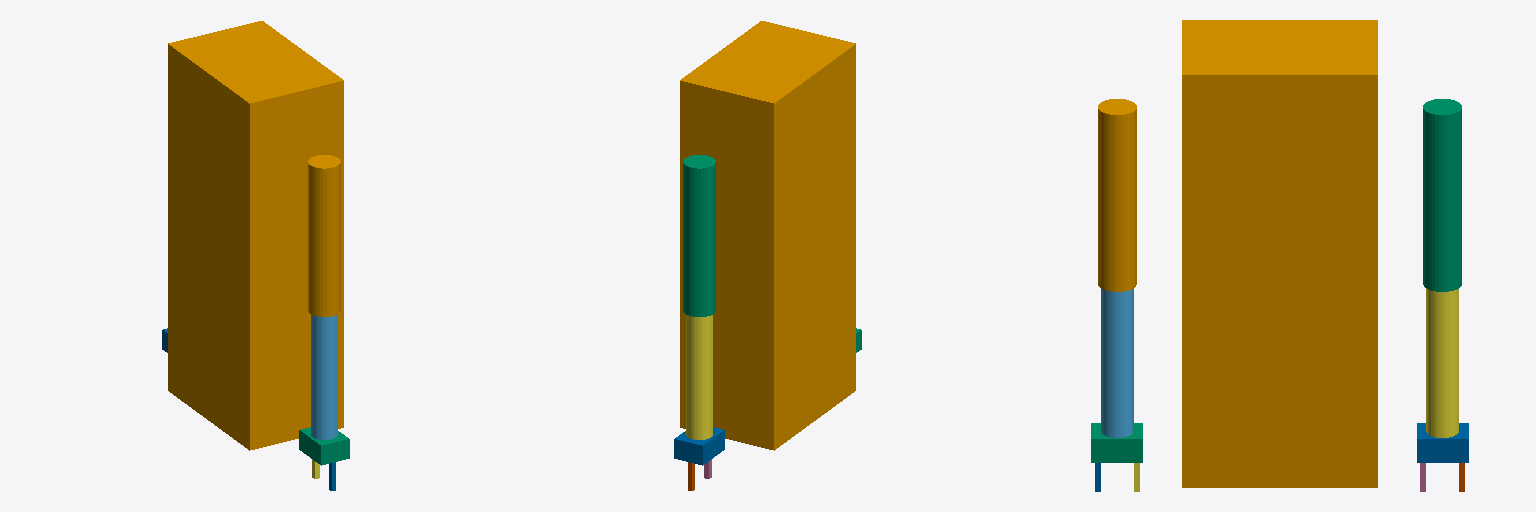
URDF robot description (dual_arm_test):
<?xml version="1.0"?>
<!-- A primitive-only dual-arm body used by the botrail tests and examples:
     a fixed torso carrying two 3-DOF arms, each ending in a 1-DOF finger
     (its twin follows as a mimic). No mesh assets, so it works straight
     from a checkout. Arms mount at the shoulders (y = +/-0.20, z = 0.60)
     and hang down at zero, elbows folding forward (+x). -->
<robot name="dual_arm_test">

  <link name="body">
    <visual>
      <origin xyz="0 0 0.35"/>
      <geometry><box size="0.20 0.30 0.70"/></geometry>
    </visual>
    <collision>
      <origin xyz="0 0 0.35"/>
      <geometry><box size="0.20 0.30 0.70"/></geometry>
    </collision>
  </link>

  <!-- ===================================================== left arm === -->
  <joint name="left_mount" type="fixed">
    <parent link="body"/>
    <child link="left_base"/>
    <origin xyz="0 0.20 0.60"/>
  </joint>
  <link name="left_base"/>

  <joint name="left_shoulder" type="revolute">
    <parent link="left_base"/>
    <child link="left_upper"/>
    <origin xyz="0 0.05 0"/>
    <axis xyz="0 1 0"/>
    <limit lower="-3.0" upper="3.0" effort="20" velocity="2.0"/>
  </joint>
  <link name="left_upper">
    <visual>
      <origin xyz="0 0 -0.15"/>
      <geometry><cylinder radius="0.03" length="0.30"/></geometry>
    </visual>
    <collision>
      <origin xyz="0 0 -0.15"/>
      <geometry><cylinder radius="0.03" length="0.30"/></geometry>
    </collision>
  </link>

  <joint name="left_elbow" type="revolute">
    <parent link="left_upper"/>
    <child link="left_fore"/>
    <origin xyz="0 0 -0.30"/>
    <axis xyz="0 1 0"/>
    <limit lower="-2.5" upper="2.5" effort="20" velocity="2.0"/>
  </joint>
  <link name="left_fore">
    <visual>
      <origin xyz="0 0 -0.125"/>
      <geometry><cylinder radius="0.025" length="0.25"/></geometry>
    </visual>
    <collision>
      <origin xyz="0 0 -0.125"/>
      <geometry><cylinder radius="0.025" length="0.25"/></geometry>
    </collision>
  </link>

  <joint name="left_wrist" type="revolute">
    <parent link="left_fore"/>
    <child link="left_hand"/>
    <origin xyz="0 0 -0.25"/>
    <axis xyz="0 0 1"/>
    <limit lower="-3.0" upper="3.0" effort="10" velocity="3.0"/>
  </joint>
  <link name="left_hand">
    <visual>
      <origin xyz="0 0 -0.02"/>
      <geometry><box size="0.06 0.08 0.04"/></geometry>
    </visual>
    <collision>
      <origin xyz="0 0 -0.02"/>
      <geometry><box size="0.06 0.08 0.04"/></geometry>
    </collision>
  </link>

  <joint name="left_finger" type="revolute">
    <parent link="left_hand"/>
    <child link="left_finger_a"/>
    <origin xyz="0 0.03 -0.04"/>
    <axis xyz="1 0 0"/>
    <limit lower="0" upper="0.8" effort="5" velocity="2.0"/>
  </joint>
  <link name="left_finger_a">
    <visual>
      <origin xyz="0 0 -0.03"/>
      <geometry><box size="0.01 0.01 0.06"/></geometry>
    </visual>
    <collision>
      <origin xyz="0 0 -0.03"/>
      <geometry><box size="0.01 0.01 0.06"/></geometry>
    </collision>
  </link>

  <joint name="left_finger_b" type="revolute">
    <parent link="left_hand"/>
    <child link="left_finger_b_link"/>
    <origin xyz="0 -0.03 -0.04"/>
    <axis xyz="-1 0 0"/>
    <limit lower="0" upper="0.8" effort="5" velocity="2.0"/>
    <mimic joint="left_finger"/>
  </joint>
  <link name="left_finger_b_link">
    <visual>
      <origin xyz="0 0 -0.03"/>
      <geometry><box size="0.01 0.01 0.06"/></geometry>
    </visual>
    <collision>
      <origin xyz="0 0 -0.03"/>
      <geometry><box size="0.01 0.01 0.06"/></geometry>
    </collision>
  </link>

  <!-- ==================================================== right arm === -->
  <joint name="right_mount" type="fixed">
    <parent link="body"/>
    <child link="right_base"/>
    <origin xyz="0 -0.20 0.60"/>
  </joint>
  <link name="right_base"/>

  <joint name="right_shoulder" type="revolute">
    <parent link="right_base"/>
    <child link="right_upper"/>
    <origin xyz="0 -0.05 0"/>
    <axis xyz="0 1 0"/>
    <limit lower="-3.0" upper="3.0" effort="20" velocity="2.0"/>
  </joint>
  <link name="right_upper">
    <visual>
      <origin xyz="0 0 -0.15"/>
      <geometry><cylinder radius="0.03" length="0.30"/></geometry>
    </visual>
    <collision>
      <origin xyz="0 0 -0.15"/>
      <geometry><cylinder radius="0.03" length="0.30"/></geometry>
    </collision>
  </link>

  <joint name="right_elbow" type="revolute">
    <parent link="right_upper"/>
    <child link="right_fore"/>
    <origin xyz="0 0 -0.30"/>
    <axis xyz="0 1 0"/>
    <limit lower="-2.5" upper="2.5" effort="20" velocity="2.0"/>
  </joint>
  <link name="right_fore">
    <visual>
      <origin xyz="0 0 -0.125"/>
      <geometry><cylinder radius="0.025" length="0.25"/></geometry>
    </visual>
    <collision>
      <origin xyz="0 0 -0.125"/>
      <geometry><cylinder radius="0.025" length="0.25"/></geometry>
    </collision>
  </link>

  <joint name="right_wrist" type="revolute">
    <parent link="right_fore"/>
    <child link="right_hand"/>
    <origin xyz="0 0 -0.25"/>
    <axis xyz="0 0 1"/>
    <limit lower="-3.0" upper="3.0" effort="10" velocity="3.0"/>
  </joint>
  <link name="right_hand">
    <visual>
      <origin xyz="0 0 -0.02"/>
      <geometry><box size="0.06 0.08 0.04"/></geometry>
    </visual>
    <collision>
      <origin xyz="0 0 -0.02"/>
      <geometry><box size="0.06 0.08 0.04"/></geometry>
    </collision>
  </link>

  <joint name="right_finger" type="revolute">
    <parent link="right_hand"/>
    <child link="right_finger_a"/>
    <origin xyz="0 0.03 -0.04"/>
    <axis xyz="1 0 0"/>
    <limit lower="0" upper="0.8" effort="5" velocity="2.0"/>
  </joint>
  <link name="right_finger_a">
    <visual>
      <origin xyz="0 0 -0.03"/>
      <geometry><box size="0.01 0.01 0.06"/></geometry>
    </visual>
    <collision>
      <origin xyz="0 0 -0.03"/>
      <geometry><box size="0.01 0.01 0.06"/></geometry>
    </collision>
  </link>

  <joint name="right_finger_b" type="revolute">
    <parent link="right_hand"/>
    <child link="right_finger_b_link"/>
    <origin xyz="0 -0.03 -0.04"/>
    <axis xyz="-1 0 0"/>
    <limit lower="0" upper="0.8" effort="5" velocity="2.0"/>
    <mimic joint="right_finger"/>
  </joint>
  <link name="right_finger_b_link">
    <visual>
      <origin xyz="0 0 -0.03"/>
      <geometry><box size="0.01 0.01 0.06"/></geometry>
    </visual>
    <collision>
      <origin xyz="0 0 -0.03"/>
      <geometry><box size="0.01 0.01 0.06"/></geometry>
    </collision>
  </link>

</robot>

--- Render facts (derived) ---
3 views of the same robot in one strip: view 1: azimuth 30°, elevation 25°; view 2: azimuth 150°, elevation 25°; view 3: azimuth 270°, elevation 25° (orthographic).
Model dual_arm_test with 13 links and 12 joints (10 revolute, 2 fixed), rooted at body, posed every joint at zero.
Visible links, largest first — view 1: body, right_upper, right_fore, right_hand; view 2: body, left_upper, left_fore, left_hand; view 3: body, left_upper, right_upper, left_fore, right_fore, left_hand, right_hand.
Boxes of the visible links, <box> form: body: <box>168,21,343,450</box>; right_upper: <box>308,155,340,316</box>; right_fore: <box>311,315,337,439</box>; right_hand: <box>299,427,349,465</box>; body: <box>680,21,855,450</box>; left_upper: <box>683,155,715,316</box>; left_fore: <box>686,315,712,439</box>; left_hand: <box>674,427,724,465</box>; body: <box>1182,20,1377,487</box>; left_upper: <box>1423,99,1461,291</box>; right_upper: <box>1098,99,1136,291</box>; left_fore: <box>1426,288,1458,437</box>; right_fore: <box>1101,288,1133,437</box>; left_hand: <box>1417,423,1468,462</box>; right_hand: <box>1091,423,1142,462</box>.
Bounding box of the posed robot: 0.2 × 0.58 × 0.75 m (x, y, z).
Geometry: primitives only (box / cylinder / sphere), no mesh files.
